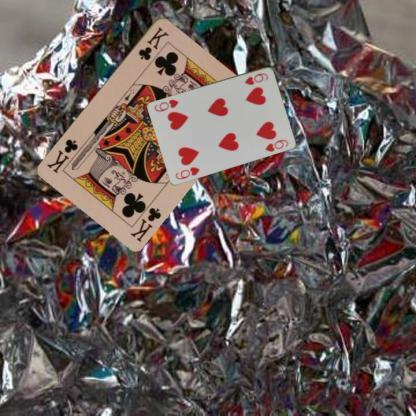6h: (172, 164, 202, 180), (242, 70, 269, 86)
Kc: (135, 24, 170, 62), (127, 204, 162, 242)
